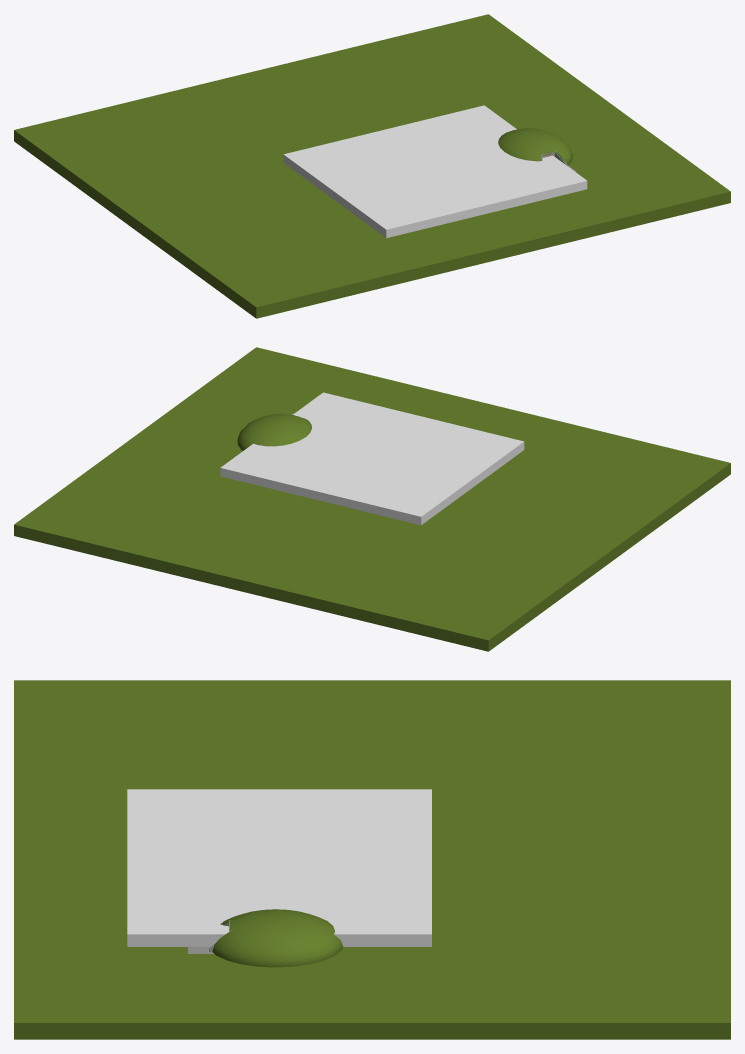
Rendered from ark_two_v008_1.glb.
3 renders of one model, top to bottom at view 1: azimuth 30°, elevation 25°; view 2: azimuth 150°, elevation 25°; view 3: azimuth 270°, elevation 25°, orthographic. The views are drawn at different scales.
Parts seen in each view (by area): view 1: Ground_Soil, Zone_Interior, Earth_Mound; view 2: Ground_Soil, Zone_Interior, Earth_Mound; view 3: Ground_Soil, Zone_Interior, Earth_Mound.
Boxes of the visible parts, x1,y1,x2,y2 form: Ground_Soil: (14,14,730,318); Zone_Interior: (283,105,587,238); Earth_Mound: (498,128,572,165); Ground_Soil: (14,347,730,651); Zone_Interior: (220,392,524,525); Earth_Mound: (237,413,311,450); Ground_Soil: (14,680,730,1039); Zone_Interior: (127,789,431,946); Earth_Mound: (212,909,343,967).
Size of the model in its own units: 130 by 11.86 by 115.
